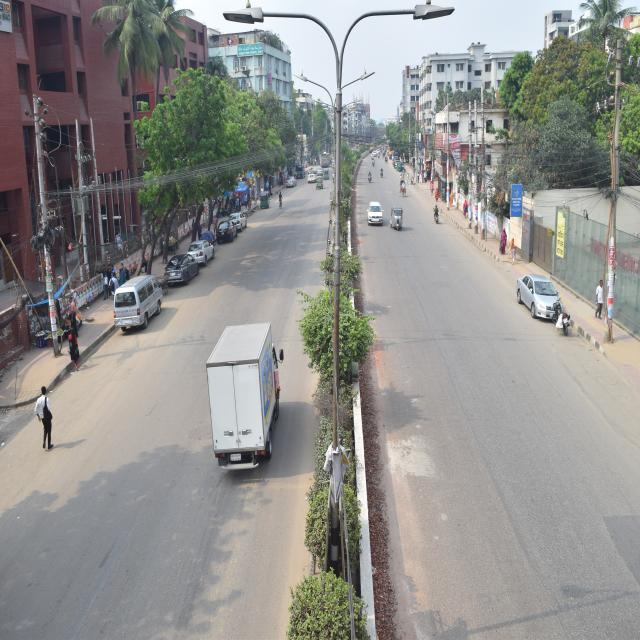car: (508, 264, 569, 325), (163, 240, 203, 297), (184, 233, 221, 270), (216, 214, 244, 249), (225, 209, 253, 236), (366, 198, 385, 231), (286, 176, 299, 194)
microbus: (108, 270, 172, 347)
motorbike: (550, 299, 574, 340), (432, 203, 442, 227), (366, 171, 375, 185)
pickup-van: (204, 310, 298, 485)
